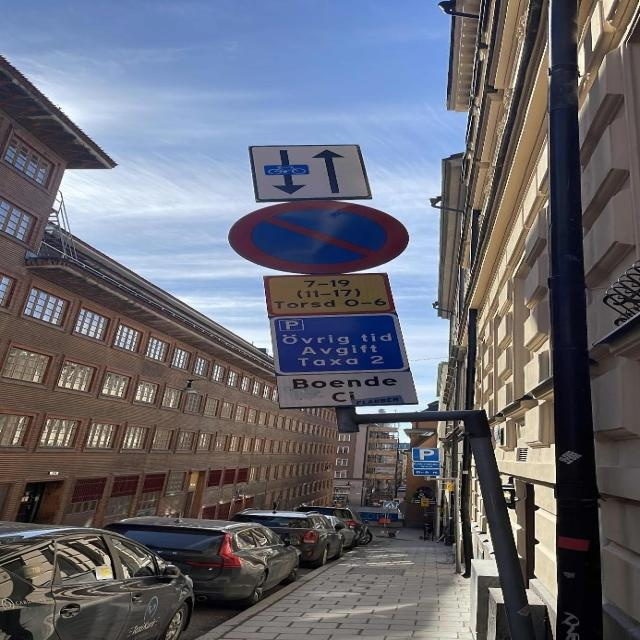lastplats: (227, 200, 409, 274)
